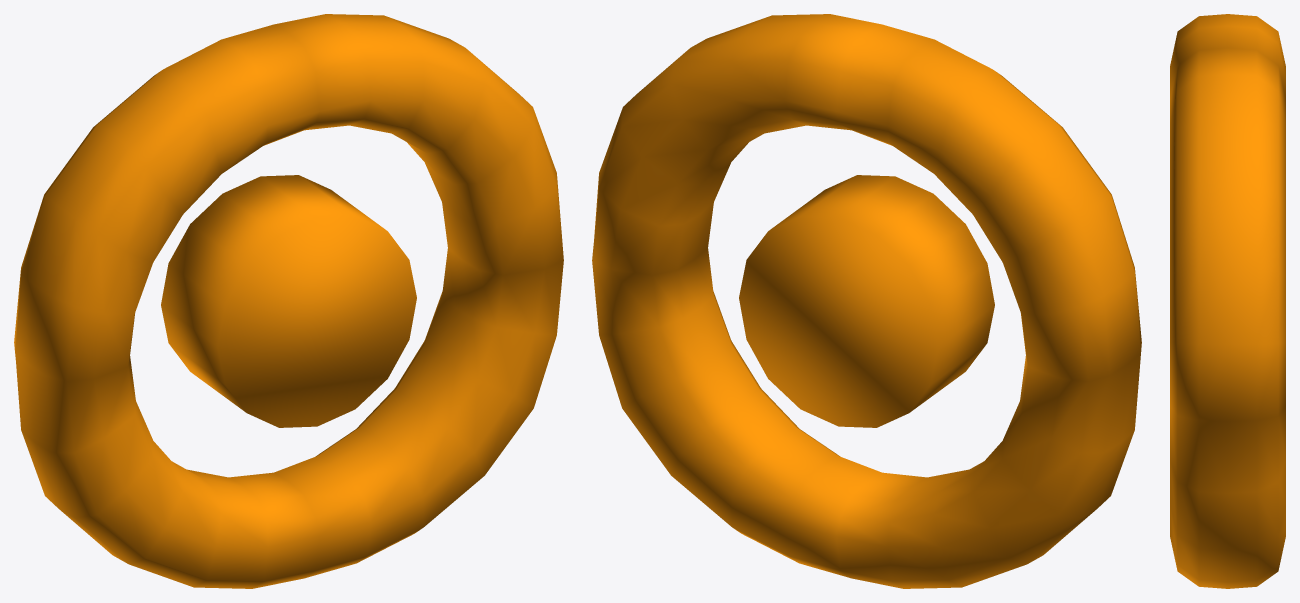
Rendered from VectorOut.glb.
3 renders of one model, left to right at view 1: azimuth 30°, elevation 25°; view 2: azimuth 150°, elevation 25°; view 3: azimuth 270°, elevation 25°, orthographic. The views are drawn at different scales.
Parts seen in each view (by area): view 1: VectorOut; view 2: VectorOut; view 3: VectorOut.
Boxes of the visible parts, x1,y1,x2,y2 form: VectorOut: (14,14,563,588); VectorOut: (592,14,1141,588); VectorOut: (1170,14,1285,588).
Bounding box in the file's own units: 0.5027 × 0.4958 × 0.1028.
